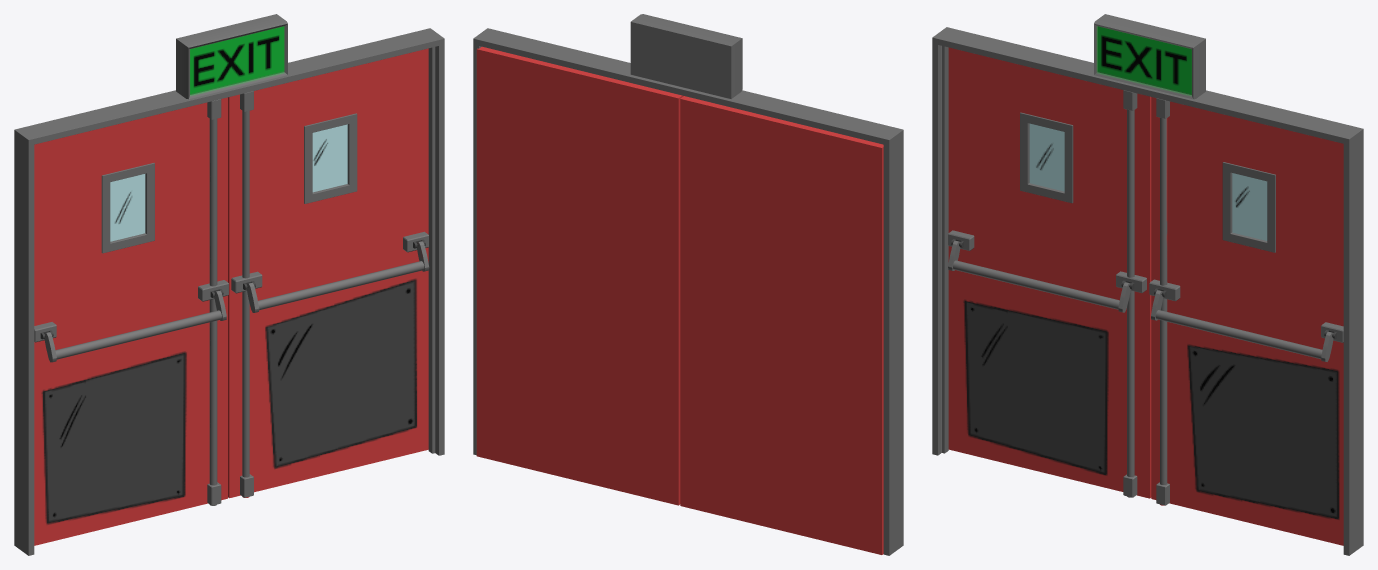
File: door.obj
The picture shows the model from 3 angles, left to right: view 1: azimuth 30°, elevation 25°; view 2: azimuth 150°, elevation 25°; view 3: azimuth 330°, elevation 25°; orthographic projection.
Parts seen in each view (by area): view 1: Cylinder008_initialShadingGroup, Cylinder008_initialShadingGroup_4, Cylinder008_FrameSG, Cylinder008_initialShadingGroup_7, Cylinder008_GlassFrame_ncl1_1SG, Cylinder008_GlassFrameSG, Cylinder008_window2SG, Cylinder008_window1SG, Cylinder008_initialShadingGroup_5, Cylinder008_initialShadingGroup_2, Cylinder008_initialShadingGroup_6; view 2: Cylinder008_initialShadingGroup_4, Cylinder008_initialShadingGroup, Cylinder008_FrameSG, Cylinder008_initialShadingGroup_7; view 3: Cylinder008_initialShadingGroup, Cylinder008_initialShadingGroup_4, Cylinder008_FrameSG, Cylinder008_initialShadingGroup_7, Cylinder008_GlassFrameSG, Cylinder008_GlassFrame_ncl1_1SG, Cylinder008_window1SG, Cylinder008_window2SG, Cylinder008_initialShadingGroup_5, Cylinder008_initialShadingGroup_2, Cylinder008_initialShadingGroup_6.
Boxes of the visible parts, x1,y1,x2,y2 form: Cylinder008_initialShadingGroup: (34,97,429,545); Cylinder008_initialShadingGroup_4: (228,48,428,498); Cylinder008_FrameSG: (14,28,444,555); Cylinder008_initialShadingGroup_7: (176,14,287,99); Cylinder008_GlassFrame_ncl1_1SG: (304,113,357,203); Cylinder008_GlassFrameSG: (101,163,154,253); Cylinder008_window2SG: (312,124,347,192); Cylinder008_window1SG: (110,174,145,241); Cylinder008_initialShadingGroup_5: (34,271,262,342); Cylinder008_initialShadingGroup_2: (198,91,253,301); Cylinder008_initialShadingGroup_6: (207,231,428,505); Cylinder008_initialShadingGroup_4: (476,46,683,505); Cylinder008_initialShadingGroup: (680,96,883,554); Cylinder008_FrameSG: (473,28,903,555); Cylinder008_initialShadingGroup_7: (630,14,742,98); Cylinder008_initialShadingGroup: (948,47,1333,505); Cylinder008_initialShadingGroup_4: (1151,97,1343,545); Cylinder008_FrameSG: (932,27,1363,555); Cylinder008_initialShadingGroup_7: (1094,14,1205,99); Cylinder008_GlassFrameSG: (1020,112,1073,203); Cylinder008_GlassFrame_ncl1_1SG: (1222,162,1275,252); Cylinder008_window1SG: (1029,123,1064,191); Cylinder008_window2SG: (1232,173,1267,240); Cylinder008_initialShadingGroup_5: (948,230,1180,301); Cylinder008_initialShadingGroup_2: (1116,98,1169,293); Cylinder008_initialShadingGroup_6: (1123,322,1343,497).
Size of the model in its own units: 21.99 by 23.69 by 1.79.
Materials: 10 (10 with a texture image).
